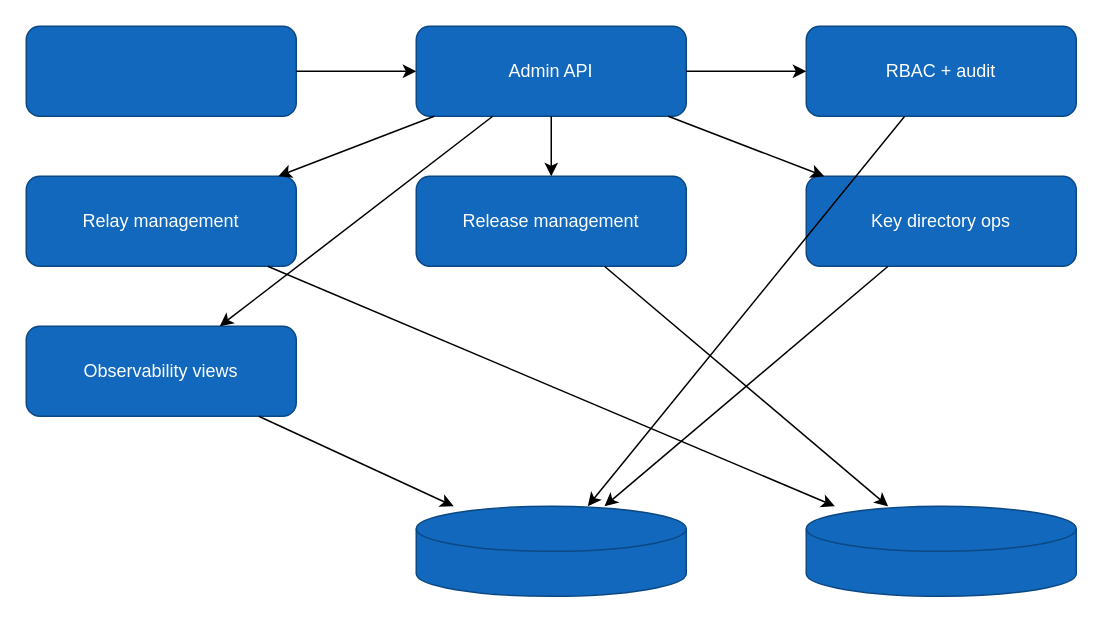
Some shapes in this 1103 by 623 pixel diagram are drawn without their labels. The box of each missing label's shape, as (x1, y1, x2, y2) in pixels:
Admin UI: (25, 25, 296, 116)
Encrypted Object Store: (805, 505, 1076, 596)
Operational DB: (415, 505, 686, 596)
